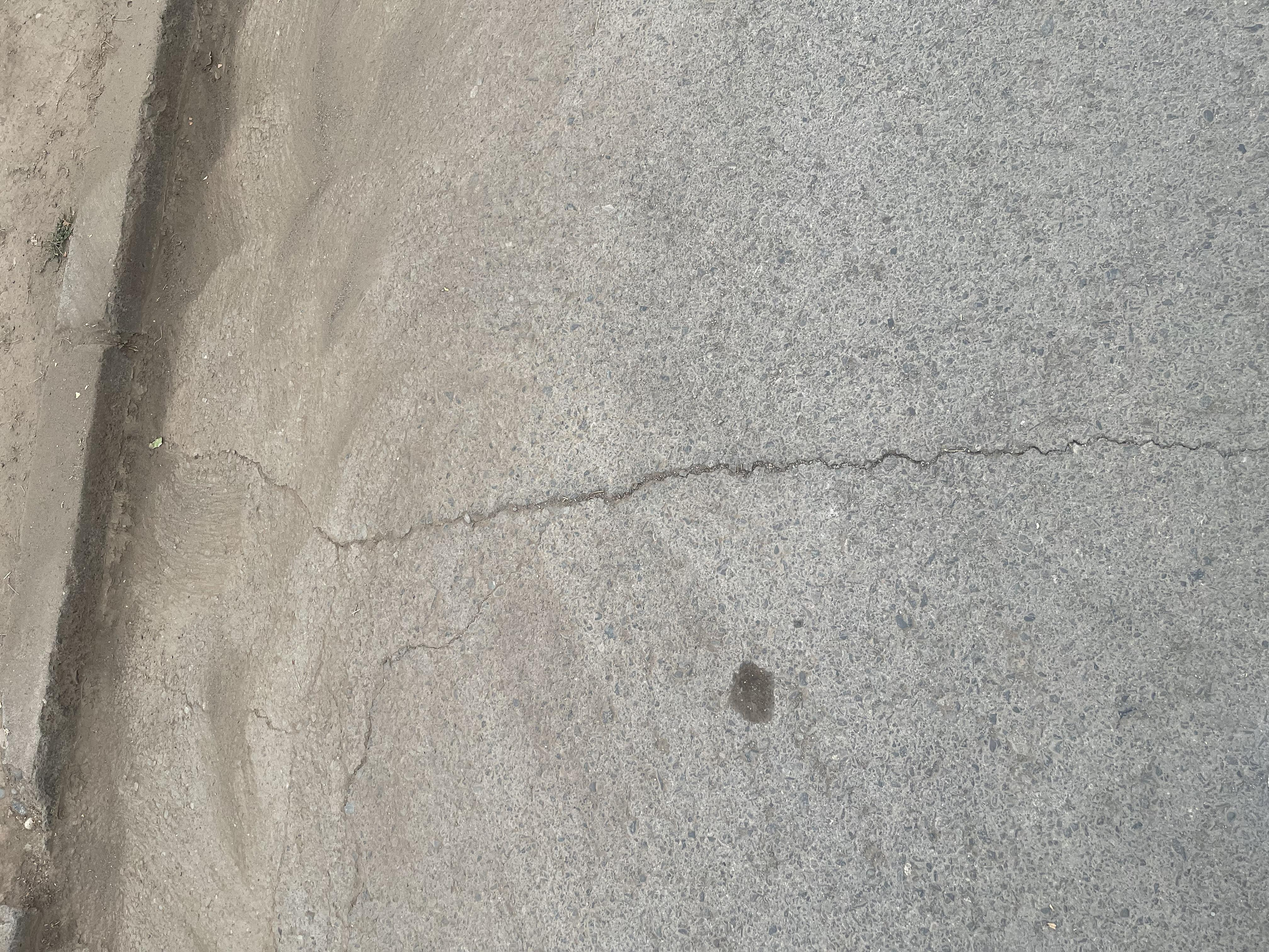GRIETA: (342, 532, 545, 952), (471, 435, 1213, 526), (185, 449, 472, 548), (271, 755, 298, 952), (252, 709, 294, 734), (313, 628, 328, 683)
